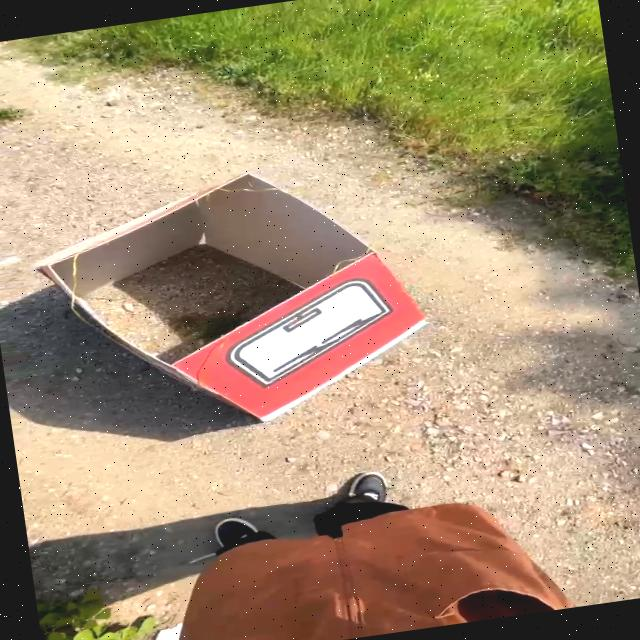red_car: (0, 105, 478, 494)
